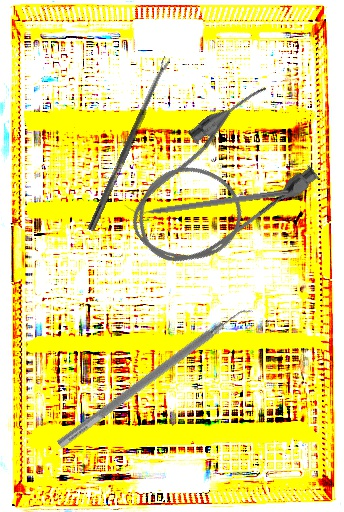Cannula: (106, 77, 330, 289)
Chopper: (123, 180, 290, 219)
Spatula Surgical: (56, 299, 257, 458)
Surgical Spoon: (87, 56, 172, 232)
